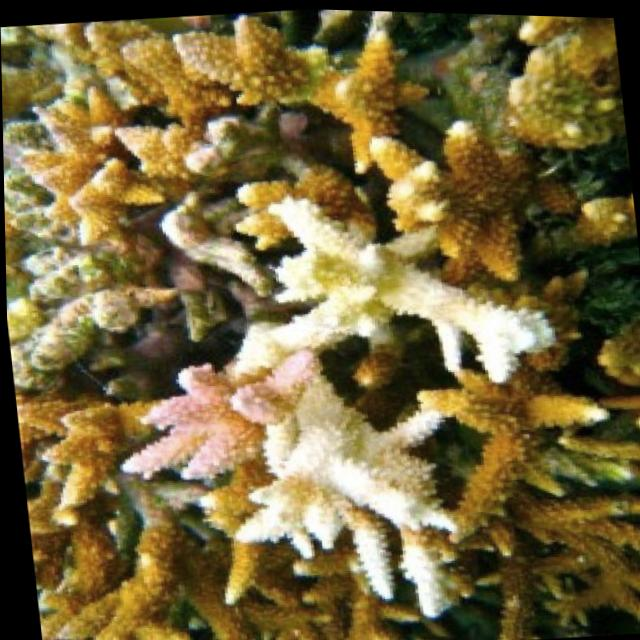Bleached Coral: (210, 170, 557, 404), (215, 356, 456, 608)
Healthy Coral: (0, 7, 259, 369), (301, 16, 542, 293), (412, 350, 640, 640), (12, 377, 252, 640), (482, 11, 626, 154)
